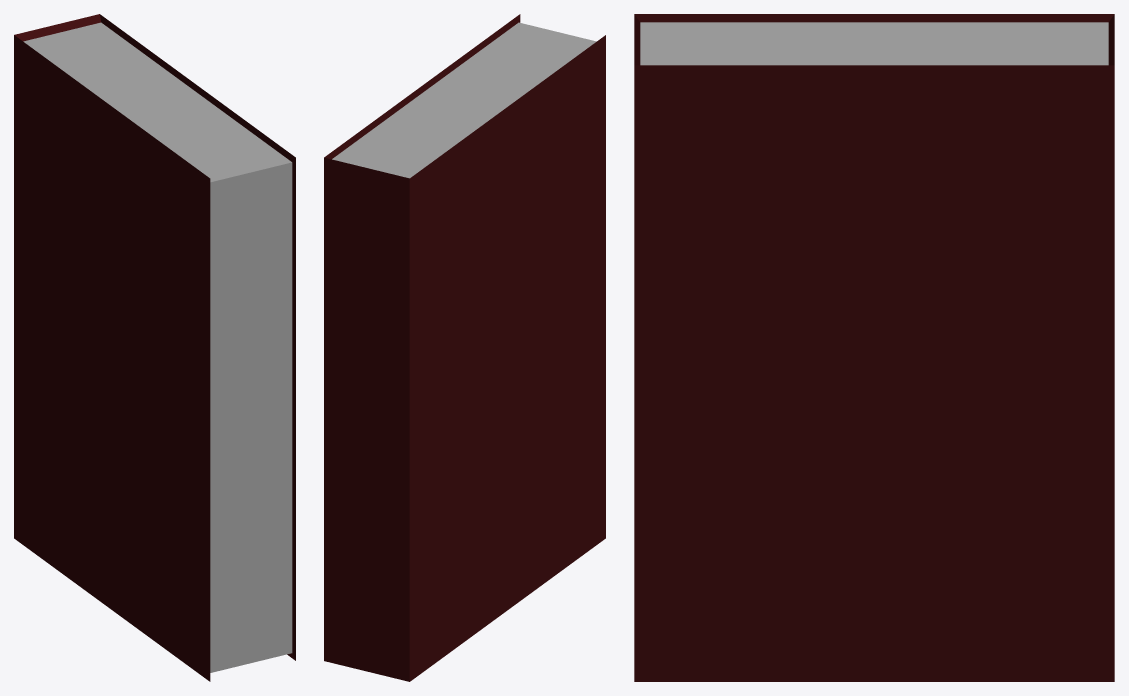
File: book.glb
3 views of the same model, side by side, from view 1: azimuth 30°, elevation 25°; view 2: azimuth 150°, elevation 25°; view 3: azimuth 270°, elevation 25° (orthographic). The views are drawn at different scales.
Parts seen in each view (by area): view 1: Cube; view 2: Cube; view 3: Cube.
Boxes of the visible parts, x1=… form: Cube: x1=14, y1=14, x2=295, y2=681; Cube: x1=324, y1=14, x2=605, y2=681; Cube: x1=634, y1=14, x2=1114, y2=681.
Size of the model in its own units: 0.3656 by 2.05 by 1.45.
